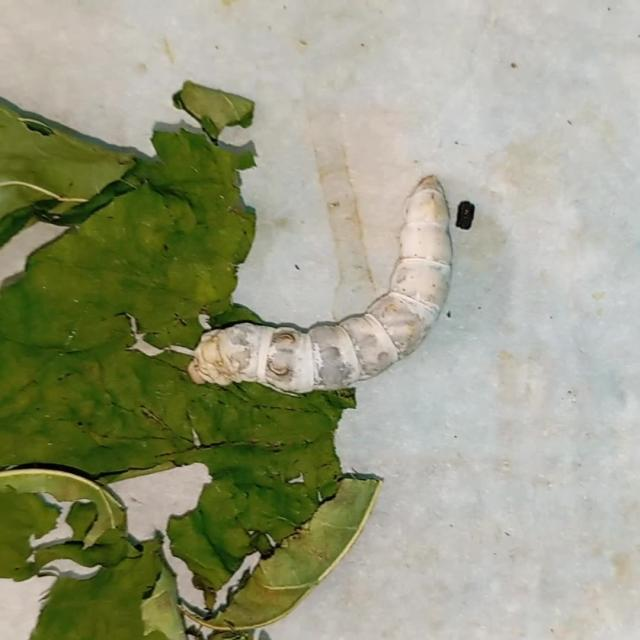Grasserie: (175, 153, 507, 434)
